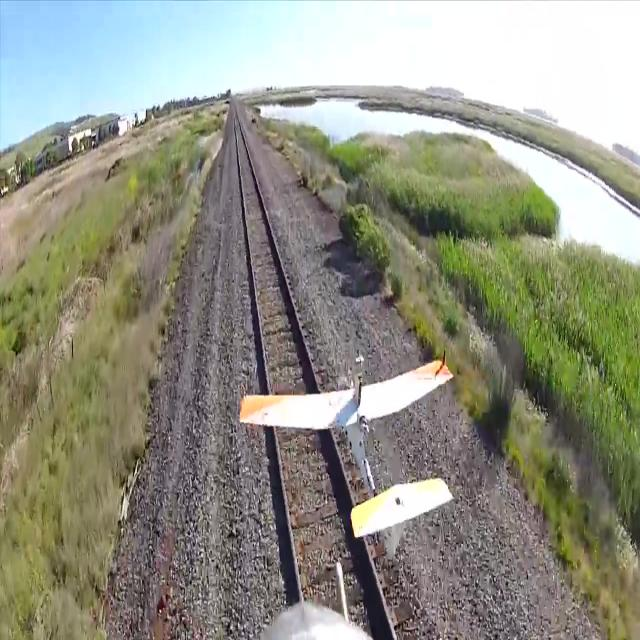iha: (239, 349, 456, 540)
